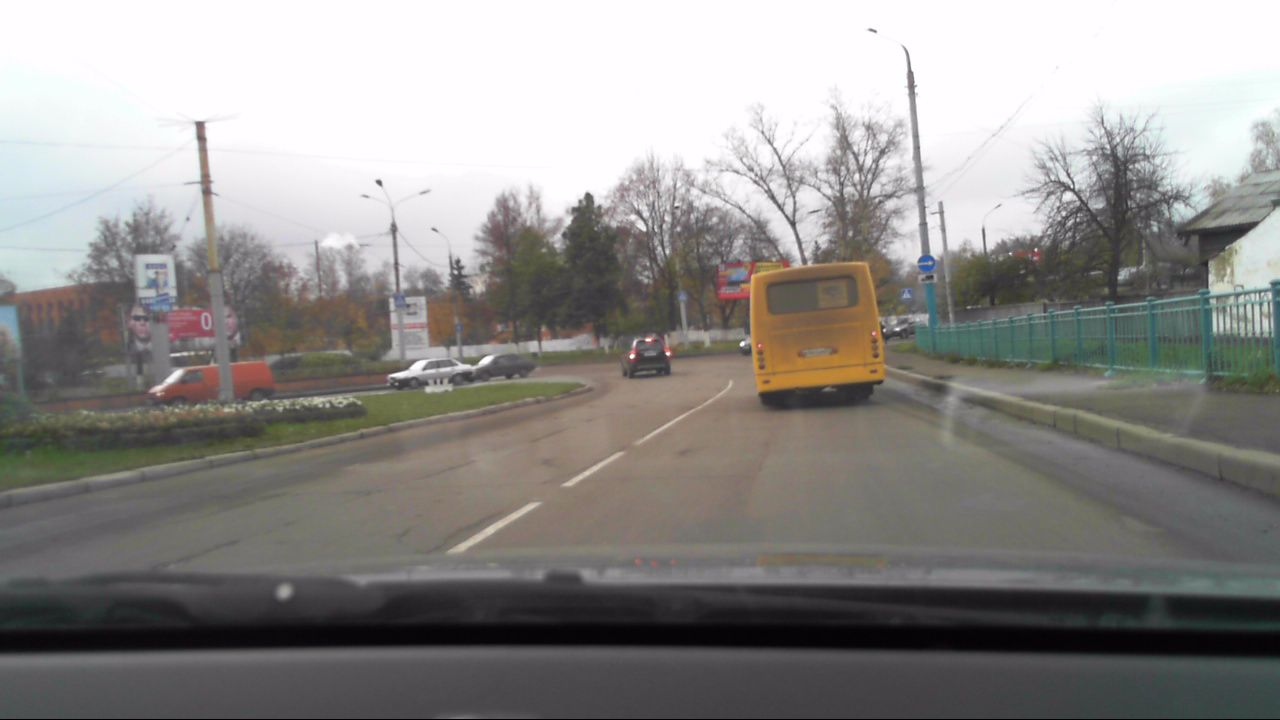Turn Right: (917, 254, 936, 272)
